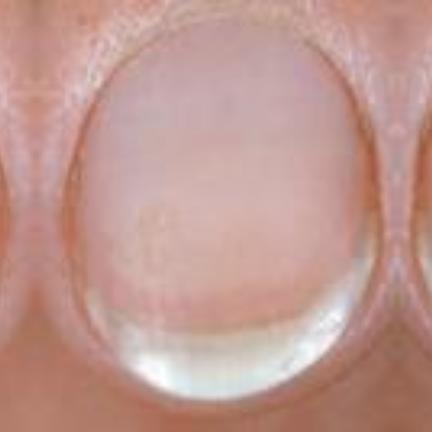Nail: (69, 20, 377, 403), (415, 111, 432, 308)
